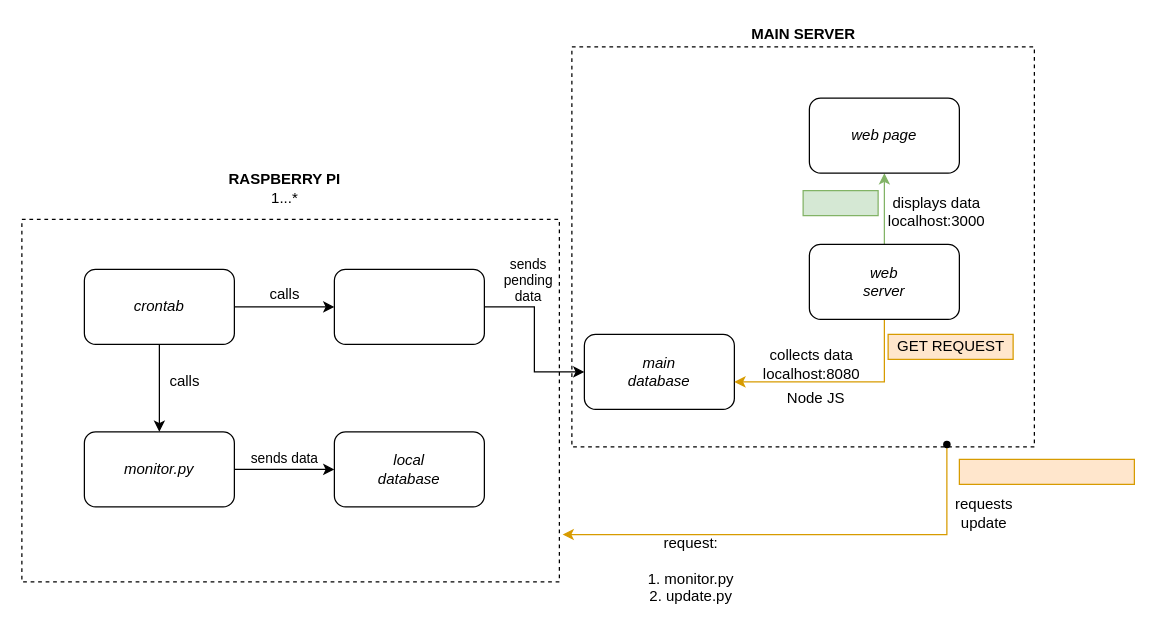
Image size: 1156x628. Some labels were removed from this diagram. The centre of each missing label's shape, as x and y in pixels:
"HTTP GET REQUEST" goes at point (1046, 471).
"React JS" goes at point (840, 202).
"update.py" goes at point (408, 306).
